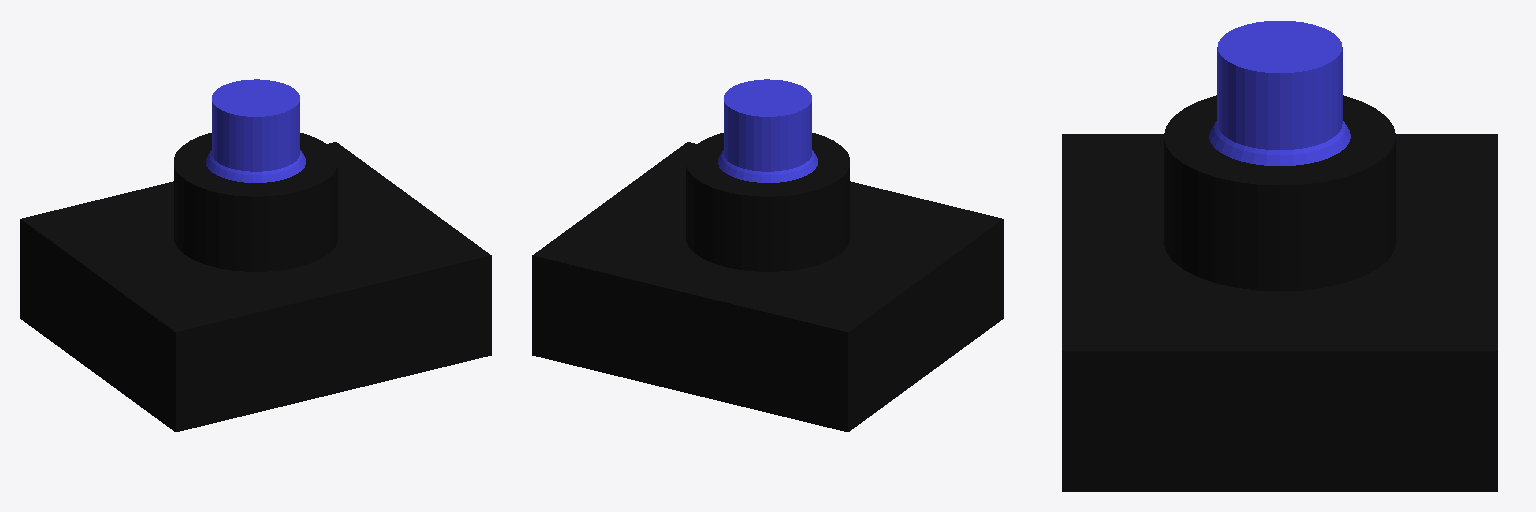
URDF robot description (evolved_robot):
<?xml version="1.0"?>
<robot name="evolved_robot">
  <material name="metal">
    <color rgba="0.7 0.7 0.7 1.0"/>
  </material>
  <material name="plastic">
    <color rgba="0.3 0.3 0.9 1.0"/>
  </material>
  <material name="rubber">
    <color rgba="0.1 0.1 0.1 1.0"/>
  </material>
  <material name="red">
    <color rgba="1.0 0.0 0.0 1.0"/>
  </material>
  <material name="wheel_material">
    <color rgba="0.2 0.2 0.2 1.0"/>
  </material>
  <link name="base_link">
    <visual>
      <geometry><box size="0.30973124463305235 0.2637592270063851 0.09384700153046605"/></geometry>
      <material name="rubber"/>
    </visual>
    <collision>
      <geometry><box size="0.30973124463305235 0.2637592270063851 0.09384700153046605"/></geometry>
    </collision>
    <inertial>
      <mass value="5.0"/>
      <inertia ixx="0.06531349127272092" ixy="0" ixz="0" 
               iyy="0.08728391966516585" iyz="0" 
               izz="0.1379186447774546"/>
    </inertial>
  </link>
  <link name="link1">
    <visual>
      <geometry><cylinder radius="0.07022127573045568" length="0.1411185146127364"/></geometry>
      <material name="rubber"/>
    </visual>
    <collision>
      <geometry><cylinder radius="0.07022127573045568" length="0.1411185146127364"/></geometry>
    </collision>
    <inertial>
      <mass value="0.5"/>
      <inertia ixx="0.002892293155178596" ixy="0" ixz="0" 
               iyy="0.002892293155178596" iyz="0" 
               izz="0.002465513782606342"/>
    </inertial>
  </link>
  <joint name="joint1" type="fixed">
    <parent link="base_link"/>
    <child link="link1"/>
    <origin xyz="0 0 0.04692350076523302" rpy="0 0 0"/>
    <axis xyz="-0.6712321116053033 -0.10920155303055626 0.7331592413422886"/>
    <dynamics damping="0.41966141190574124" friction="0.1"/>
  </joint>
  <link name="link2">
    <visual>
      <geometry><sphere radius="0.04774140146365198"/></geometry>
      <material name="plastic"/>
    </visual>
    <collision>
      <geometry><sphere radius="0.04774140146365198"/></geometry>
    </collision>
    <inertial>
      <mass value="0.5"/>
      <inertia ixx="0.0009116965654854366" ixy="0" ixz="0" 
               iyy="0.0009116965654854366" iyz="0" 
               izz="0.0009116965654854366"/>
    </inertial>
  </link>
  <joint name="joint2" type="fixed">
    <parent link="base_link"/>
    <child link="link2"/>
    <origin xyz="0 0 0.09692350076523303" rpy="0 0 0"/>
    <axis xyz="0.16633968180054381 -0.949888529466411 0.26465617666442853"/>
    <dynamics damping="0.32429681390972" friction="0.1"/>
  </joint>
  <link name="link3">
    <visual>
      <geometry><cylinder radius="0.037788071872525975" length="0.06036328961391901"/></geometry>
      <material name="plastic"/>
    </visual>
    <collision>
      <geometry><cylinder radius="0.037788071872525975" length="0.06036328961391901"/></geometry>
    </collision>
    <inertial>
      <mass value="0.5"/>
      <inertia ixx="0.0006606284883786191" ixy="0" ixz="0" 
               iyy="0.0006606284883786191" iyz="0" 
               izz="0.0007139691879215944"/>
    </inertial>
  </link>
  <joint name="joint3" type="fixed">
    <parent link="base_link"/>
    <child link="link3"/>
    <origin xyz="0 0 0.14692350076523303" rpy="0 0 0"/>
    <axis xyz="0.9797238074645768 -0.15802429807638813 -0.12316485823715152"/>
    <dynamics damping="0.6617432306237528" friction="0.1"/>
  </joint>
</robot>

--- What the picture shows (computed from the rendered views, not written in the file) ---
Views: 3 orthographic renders of the robot side by side, from view 1: azimuth 30°, elevation 25°; view 2: azimuth 150°, elevation 25°; view 3: azimuth 270°, elevation 25°.
Robot: evolved_robot — 4 links, 3 joints (3 fixed); root link base_link; default pose: all joints at 0.
Visible links, largest first — view 1: base_link, link1, link3, link2; view 2: base_link, link1, link3, link2; view 3: base_link, link1, link3, link2.
Link boxes in pixels (box(x1,y1,x2,y2)): base_link: box(20, 142, 491, 431); link1: box(174, 133, 337, 271); link3: box(212, 79, 299, 171); link2: box(206, 150, 305, 182); base_link: box(532, 142, 1003, 431); link1: box(686, 133, 849, 271); link3: box(724, 79, 811, 171); link2: box(718, 150, 817, 182); base_link: box(1062, 134, 1497, 491); link1: box(1164, 95, 1395, 290); link3: box(1217, 21, 1342, 149); link2: box(1209, 121, 1350, 165).
Size in the robot's own frame: 0.3097 by 0.2638 by 0.224 metres.
Geometry: primitives only (box / cylinder / sphere), no mesh files.